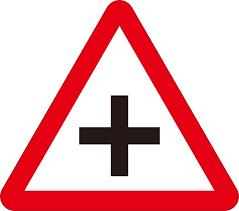fork_road: (0, 0, 236, 210)
